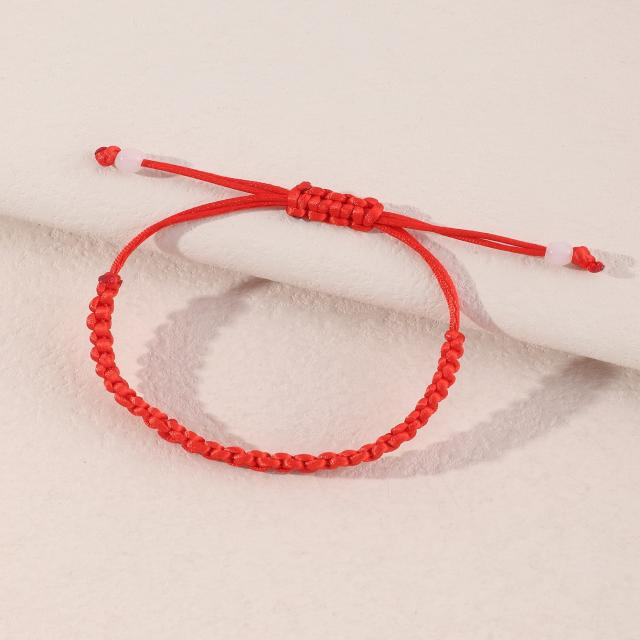bracelet: (40, 119, 640, 494)
